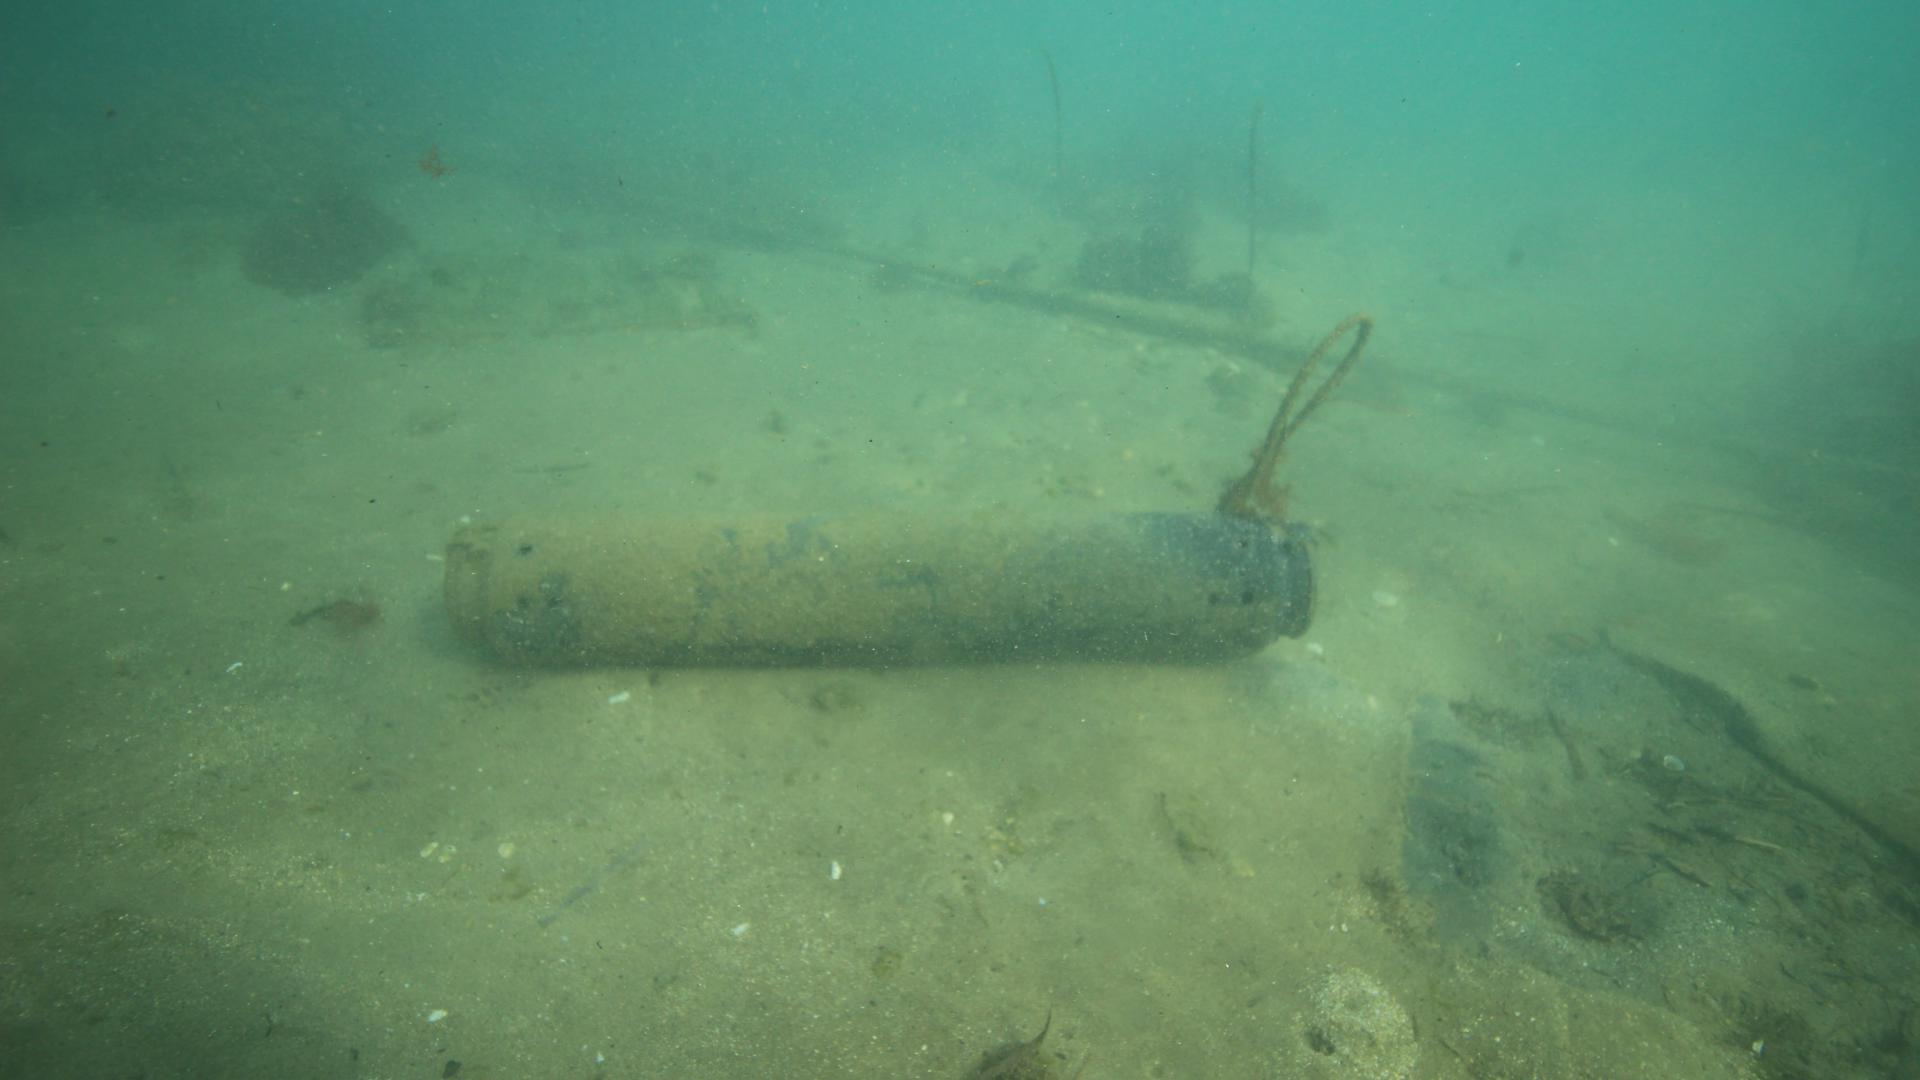eel fish trap: (425, 502, 1328, 667)
rope: (1232, 307, 1379, 502)
